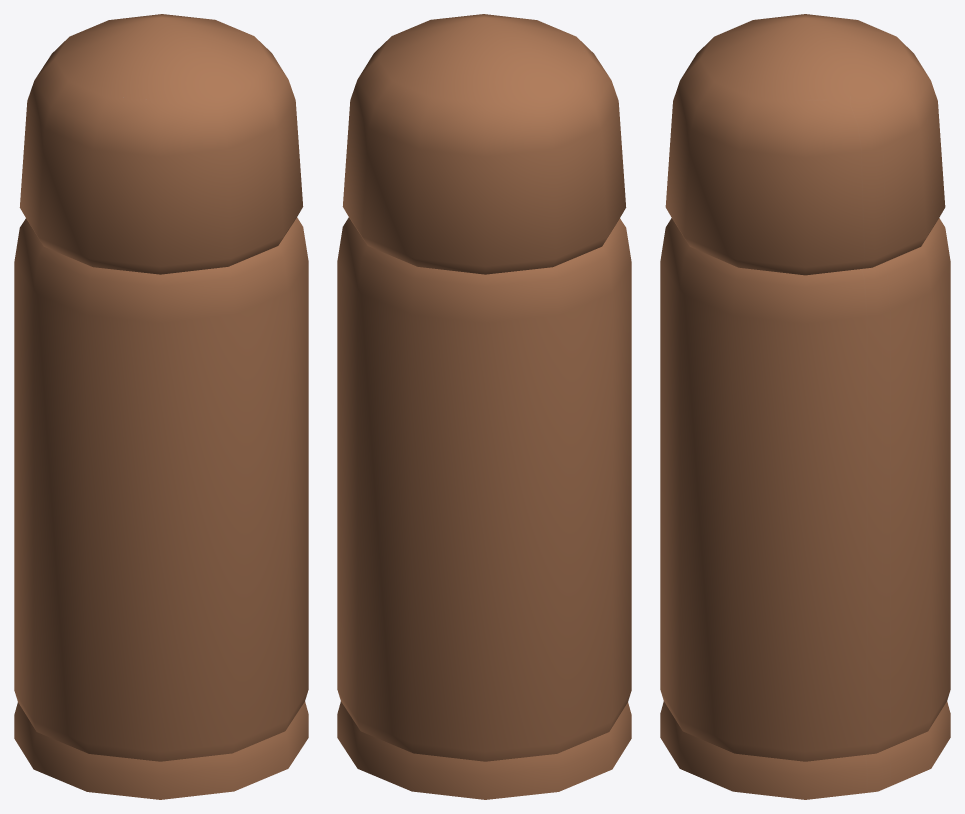
The model's file is bullet.glb.
The picture shows the model from 3 angles, left to right: view 1: azimuth 30°, elevation 25°; view 2: azimuth 150°, elevation 25°; view 3: azimuth 270°, elevation 25°; orthographic projection.
Parts seen in each view (by area): view 1: Cone; view 2: Cone; view 3: Cone.
Part boxes in pixels (<box>): Cone: <box>14,14,308,799</box>; Cone: <box>337,14,631,799</box>; Cone: <box>660,14,950,799</box>.
Bounding box in the file's own units: 0.332 × 0.8975 × 0.3268.
Materials: 1 (1 with a texture image).
